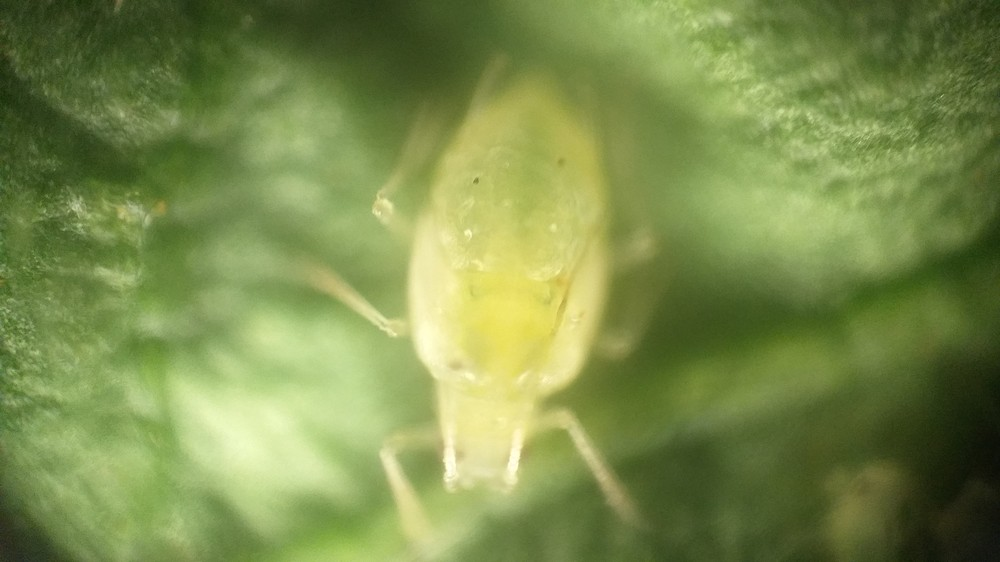Pulgon: (306, 64, 711, 545)
